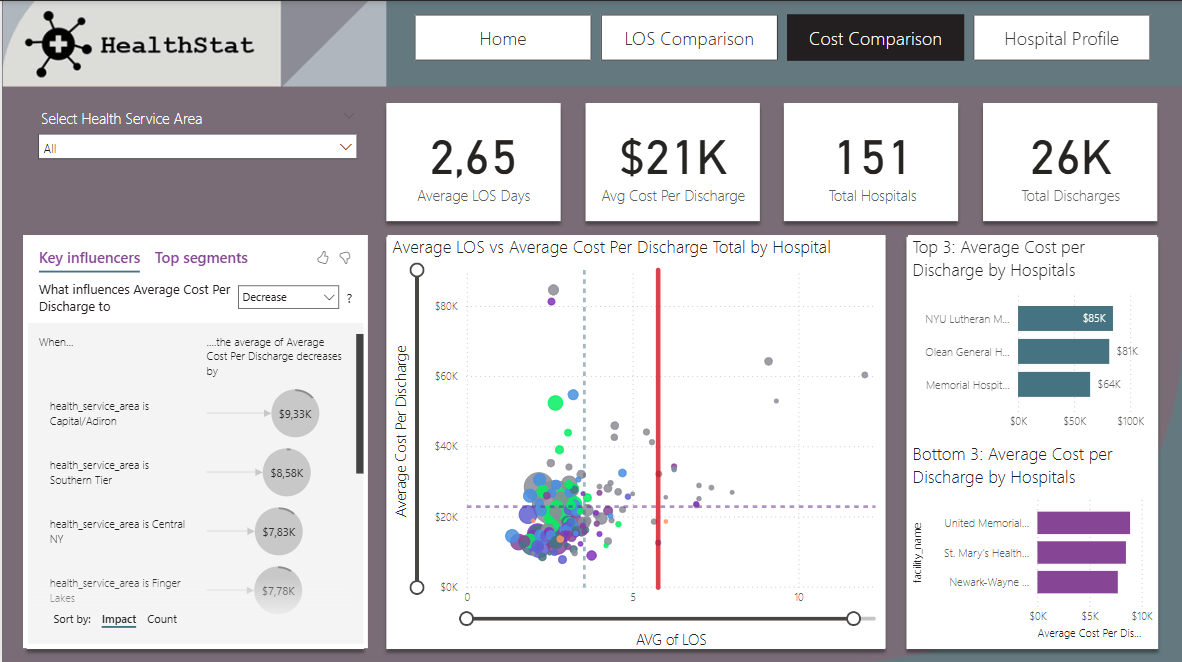

This screenshot's page, from the dashboard's own definition file:
{"tool":"powerbi","page":{"name":"Cost Comparison","canvas":[1280,720],"ordinal":2},"visuals":[{"type":"scatterChart","title":"Average LOS vs  Average Cost Per Discharge Total by Hospital","fields":{"Y":["_Measures.Average Cost Per Discharge"],"X":["_Measures.AVG of LOS"],"Size":["_Measures.Total Discharges"],"Series":["hospital_discharges.health_service_area"],"Category":["hospital_discharges.facility_name"]},"box":[418,254,540,448],"z":0},{"type":"slicer","fields":{"Values":["hospital_discharges.health_service_area"]},"box":[30,110,366,62],"z":1000},{"type":"card","fields":{"Values":["_Measures.AVG of LOS"]},"box":[418,110,186,126],"z":2000},{"type":"keyDriversVisual","fields":{"ExplainBy":["hospital_discharges.apr_risk_of_mortality","hospital_discharges.apr_severity_of_illness_description","hospital_discharges.ccs_diagnosis_description","hospital_discharges.patient_disposition","hospital_discharges.gender","hospital_discharges.health_service_area","hospital_discharges.Age Band","Surgical_program_volume_summary.Surgical_program_size"],"Target":["_Measures.Average Cost Per Discharge"]},"box":[22,254,374,448],"z":3000},{"type":"clusteredBarChart","title":"Bottom 3: Average Cost per Discharge by Hospitals","fields":{"Category":["hospital_discharges.facility_name"],"Y":["_Measures.Average Cost Per Discharge"]},"box":[982,478,270,220],"z":4000},{"type":"clusteredBarChart","title":"Top 3: Average Cost per Discharge by Hospitals","fields":{"Category":["hospital_discharges.facility_name"],"Y":["_Measures.Average Cost Per Discharge"]},"box":[982,254,270,220],"z":5000},{"type":"card","fields":{"Values":["_Measures.Average Cost Per Discharge"]},"box":[634,110,186,126],"z":6000},{"type":"card","fields":{"Values":["_Measures.Total_Hospitals"]},"box":[850,110,186,126],"z":7000},{"type":"card","fields":{"Values":["_Measures.Total Discharges"]},"box":[1066,110,186,126],"z":8000},{"type":"pageNavigator","box":[448,14,800,50],"z":9000}]}

Visuals, with their boxes in screenshot pixels (x1, y1, x2, y2), scaled from the page's 1280x720 canvas onto the 1182x662 screenshot:
"Average LOS vs  Average Cost Per Discharge Total by Hospital" scatterChart: 386:234:885:645
slicer - hospital_discharges.health_service_area: 28:101:366:158
card - _Measures.AVG of LOS: 386:101:558:217
keyDriversVisual - hospital_discharges.apr_risk_of_mortality x hospital_discharges.apr_severity_of_illness_description: 20:234:366:645
"Bottom 3: Average Cost per Discharge by Hospitals" clusteredBarChart: 907:439:1156:642
"Top 3: Average Cost per Discharge by Hospitals" clusteredBarChart: 907:234:1156:436
card - _Measures.Average Cost Per Discharge: 585:101:757:217
card - _Measures.Total_Hospitals: 785:101:957:217
card - _Measures.Total Discharges: 984:101:1156:217
pageNavigator: 414:13:1152:59
